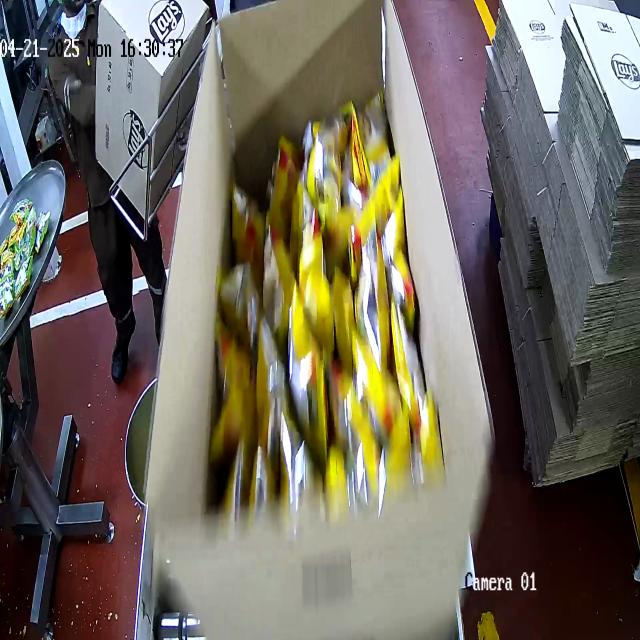SALTED: (206, 81, 422, 523)
